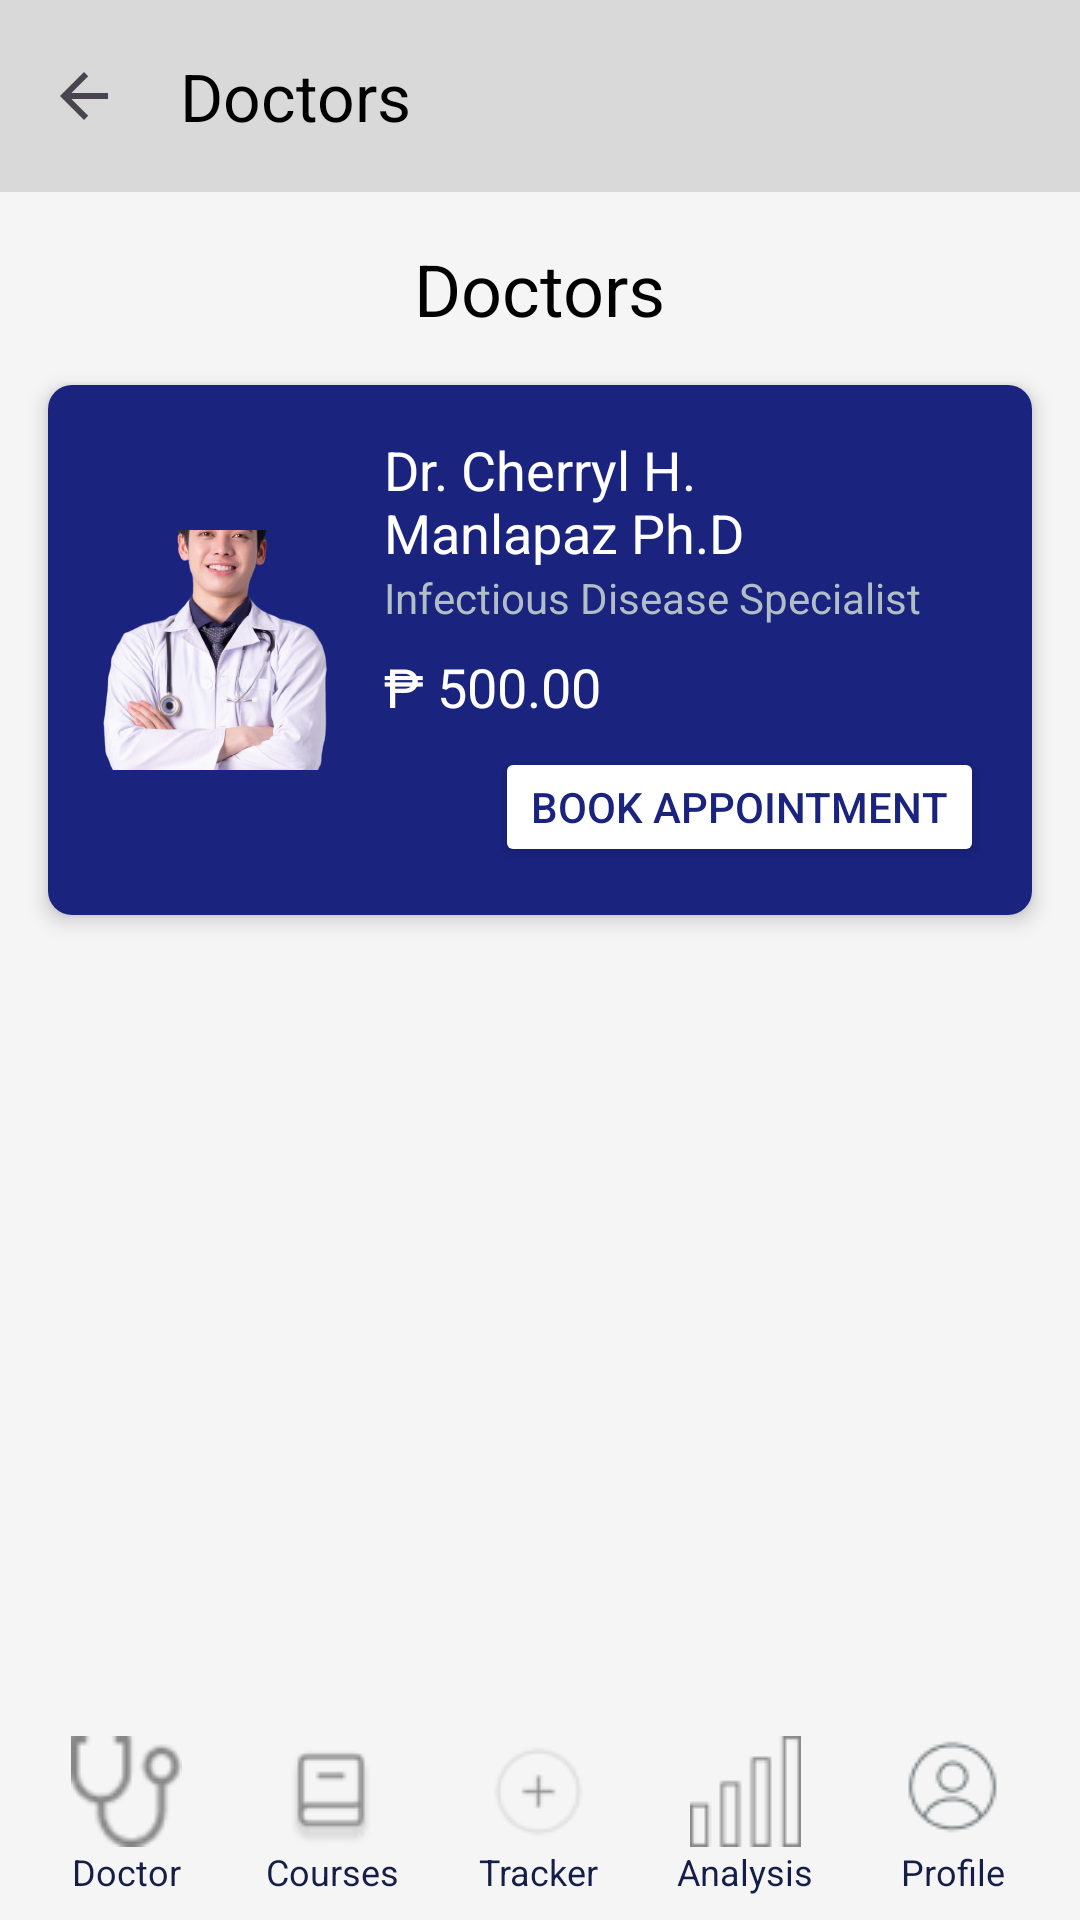

Screen size 1080x1920. Icon name, then its center in pixels as (x=x, y=y):
book: (x=331, y=1793)
